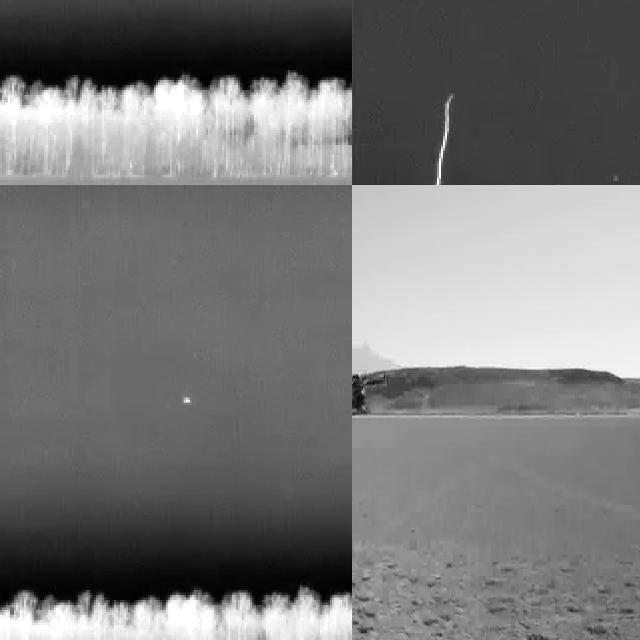0: (610, 168, 628, 185)
1: (175, 386, 209, 422)
drone: (352, 371, 387, 410)
